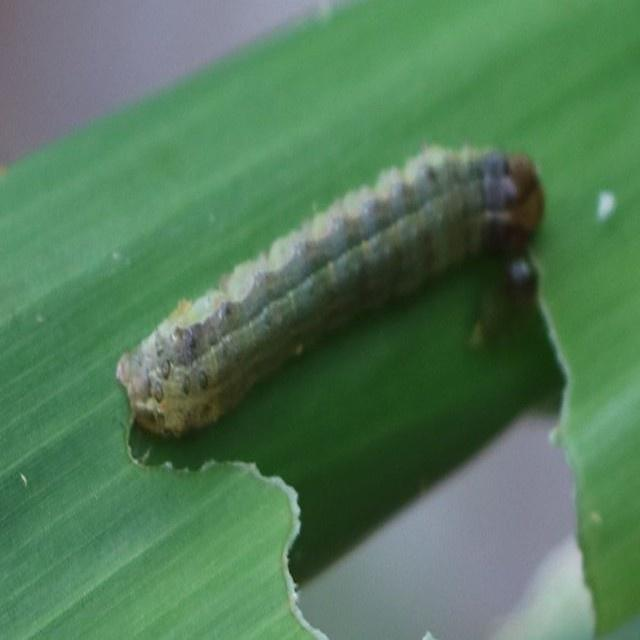Plaga: (120, 151, 543, 436)
